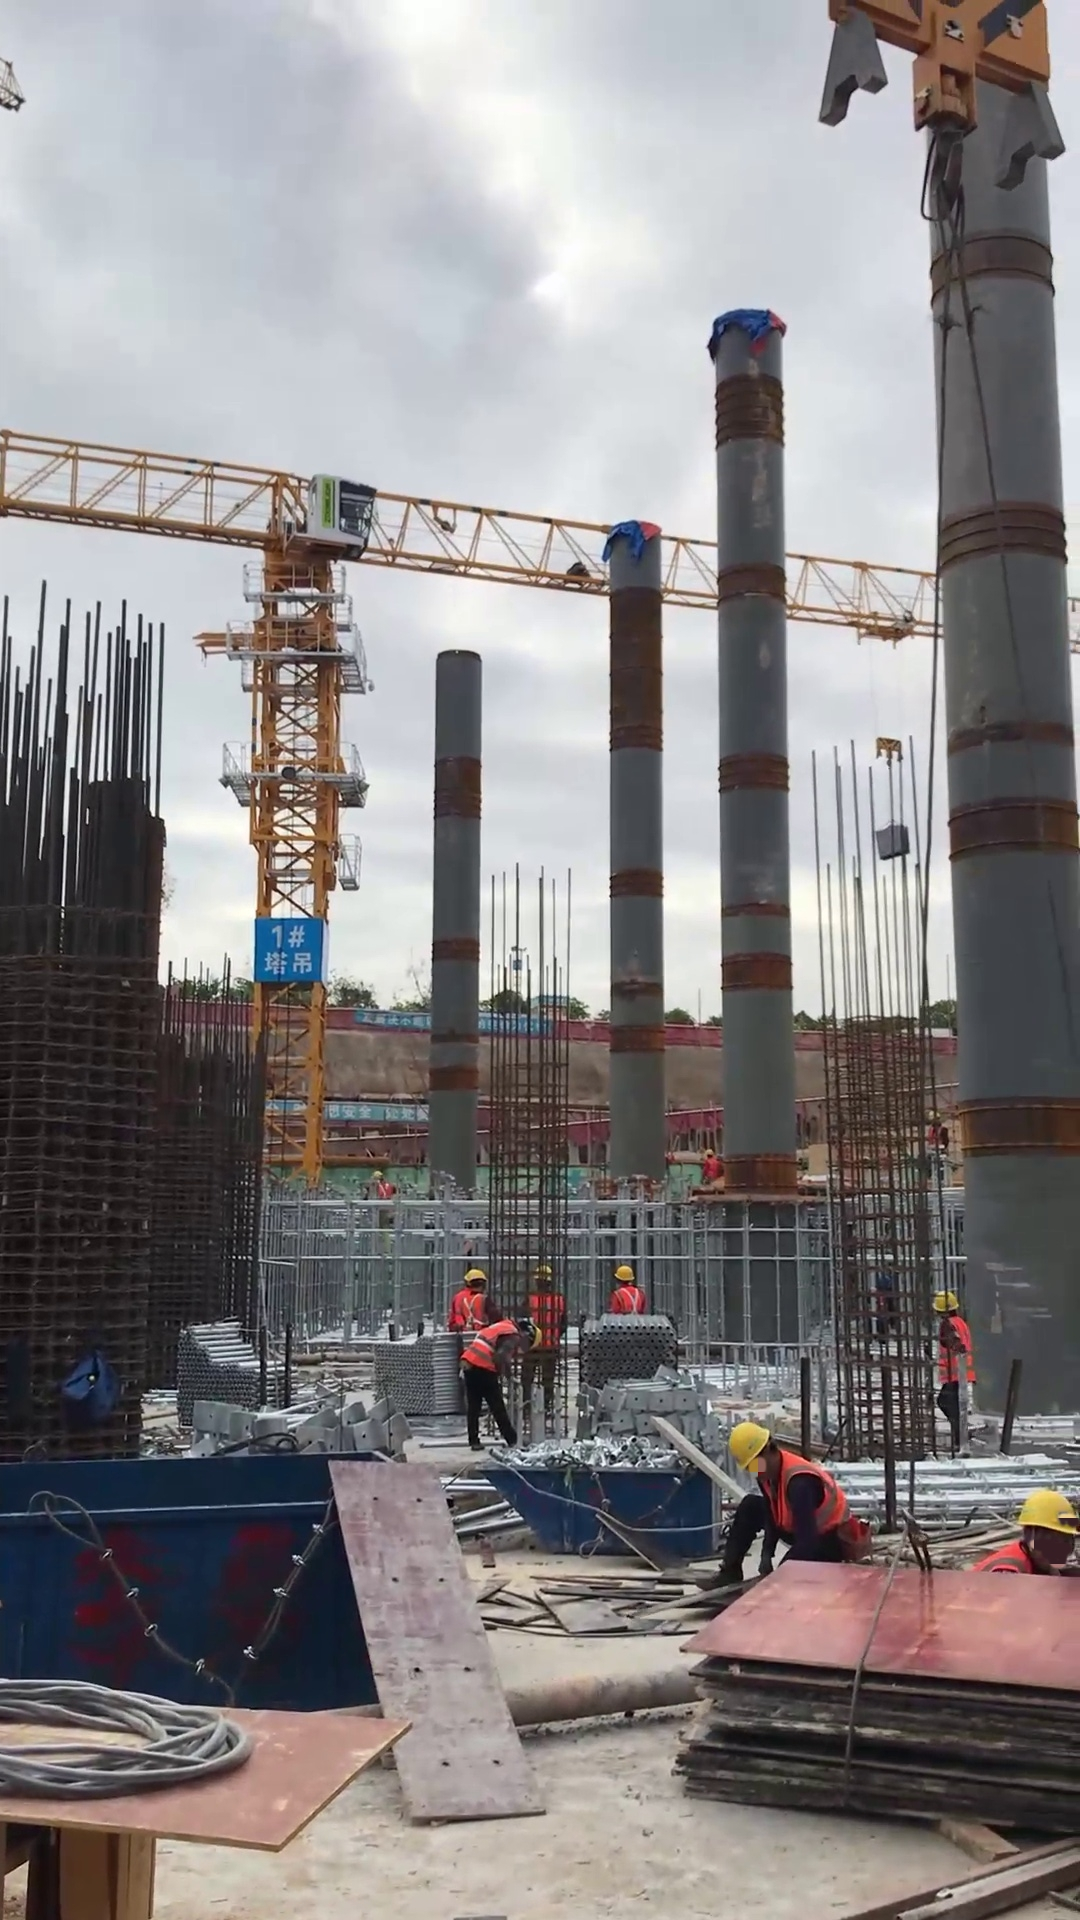board: (668, 1559, 1080, 1838)
cutter: (1, 1696, 422, 1919)
helmet: (1014, 1488, 1080, 1541), (724, 1420, 771, 1472), (523, 1321, 544, 1357), (932, 1288, 959, 1313), (464, 1269, 489, 1287), (613, 1263, 634, 1283), (533, 1266, 554, 1283), (925, 1108, 943, 1126), (372, 1170, 385, 1181), (702, 1149, 715, 1159)
hook: (815, 1, 1074, 225), (873, 735, 905, 770)
hopper: (1, 1448, 415, 1711), (473, 1453, 724, 1561)
person: (692, 1419, 876, 1593), (457, 1316, 544, 1452), (965, 1488, 1080, 1581), (930, 1286, 978, 1459), (520, 1265, 568, 1426), (461, 1268, 505, 1332), (606, 1263, 649, 1314), (923, 1108, 949, 1161), (696, 1146, 722, 1185), (370, 1169, 391, 1200)
scaffold: (830, 1452, 1080, 1536), (175, 1317, 299, 1428), (577, 1312, 679, 1390), (372, 1332, 463, 1418)
slogan: (354, 1008, 552, 1042), (254, 918, 323, 980), (262, 1098, 430, 1124)
vest: (757, 1451, 850, 1538), (458, 1317, 521, 1375), (937, 1316, 977, 1386), (973, 1537, 1040, 1575), (528, 1291, 565, 1350), (452, 1286, 492, 1332), (614, 1285, 646, 1314), (927, 1124, 947, 1153), (702, 1159, 721, 1182), (377, 1180, 392, 1201)
